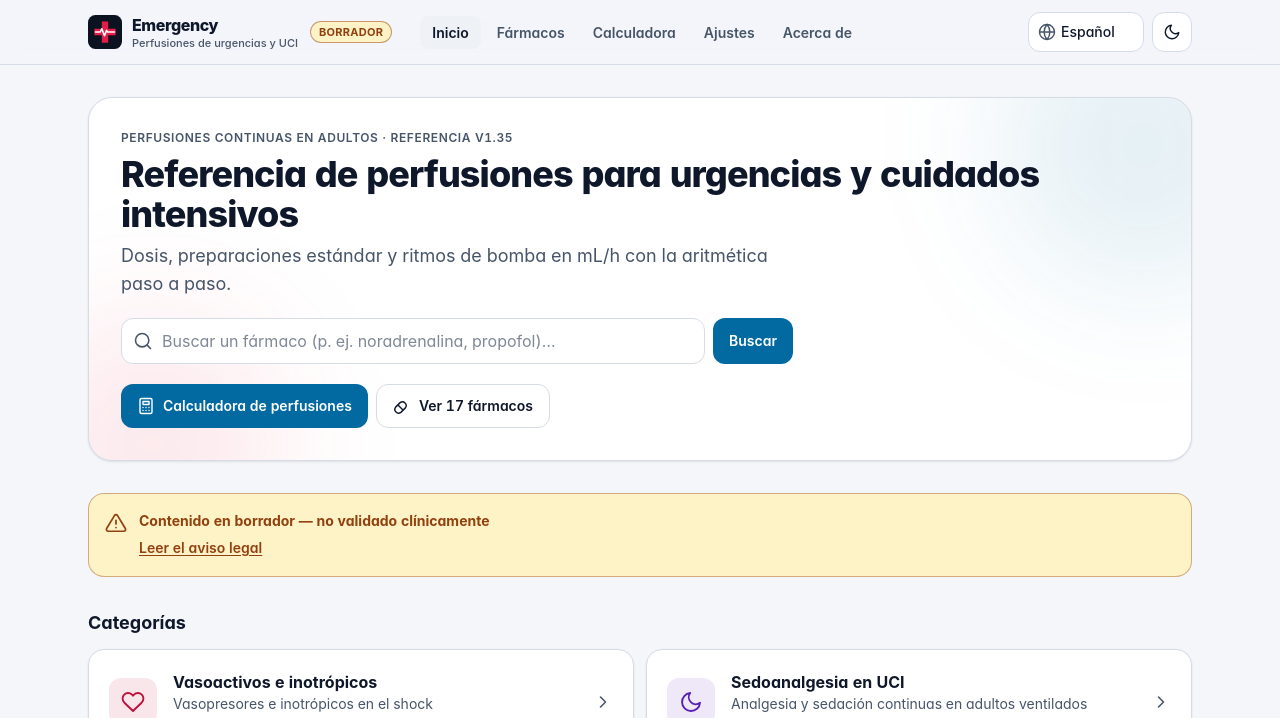
Test case: i18n & settings › language switcher changes UI and persists to localStorage
Expected: the 1st heading shows "Referencia de perfusiones", [121, 152, 1039, 236]
Select "简体中文" in the dropdown with test id "language-switcher". click: (1086, 32)
box: [1028, 12, 1144, 52]
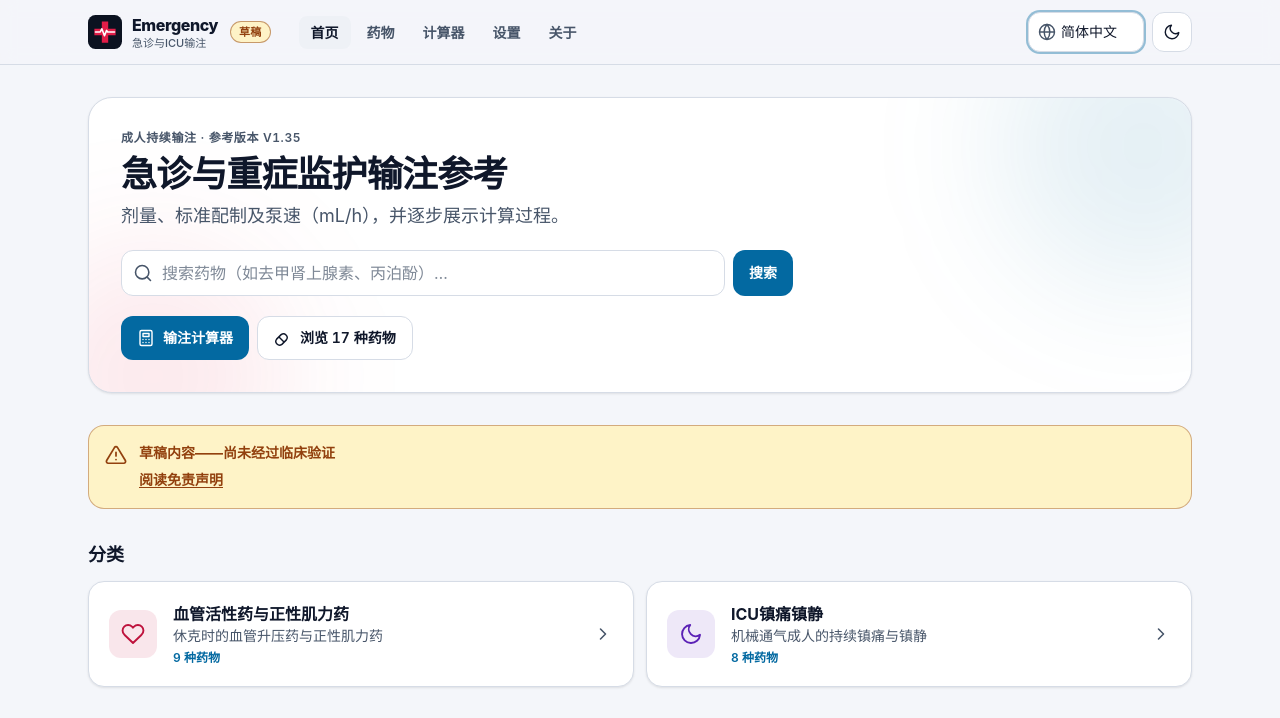
Now the heading "急诊与重症监护输注参考" is shown, box [121, 152, 507, 196]
Select "Português" in the dropdown with test id "language-switcher". click: (1086, 32)
box: [1028, 12, 1144, 52]
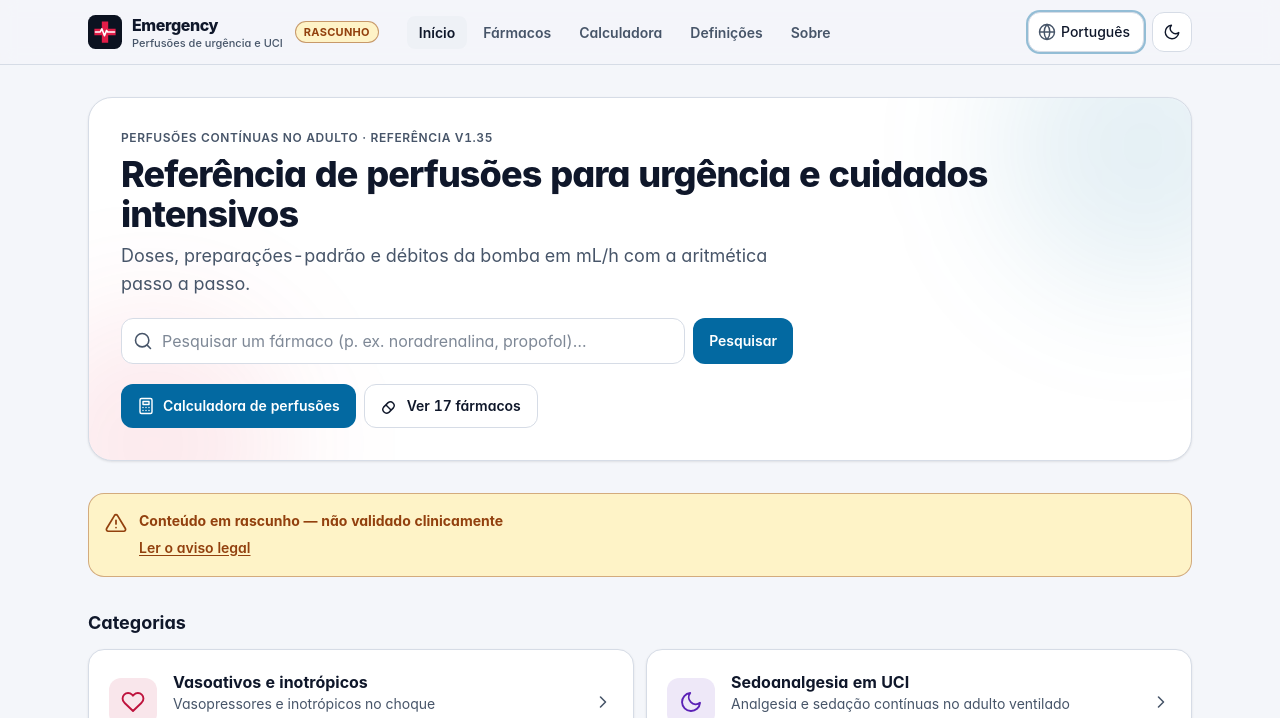
Now the heading "Referência de perfusões para urgência e cuidados intensivos" is shown, box [121, 152, 988, 236]
